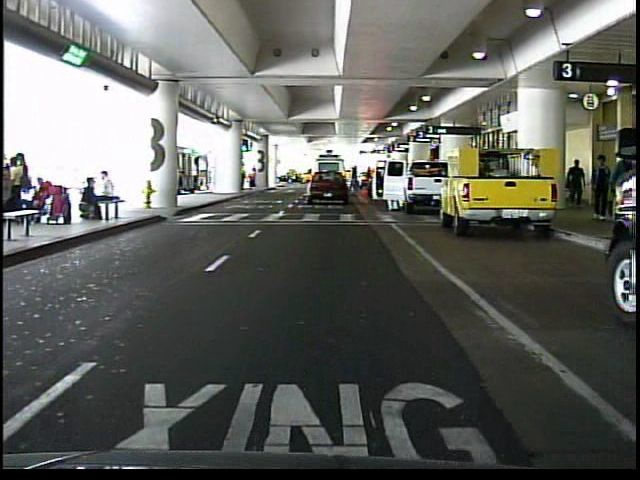person: (562, 156, 588, 213), (588, 152, 609, 218), (249, 167, 260, 191)
